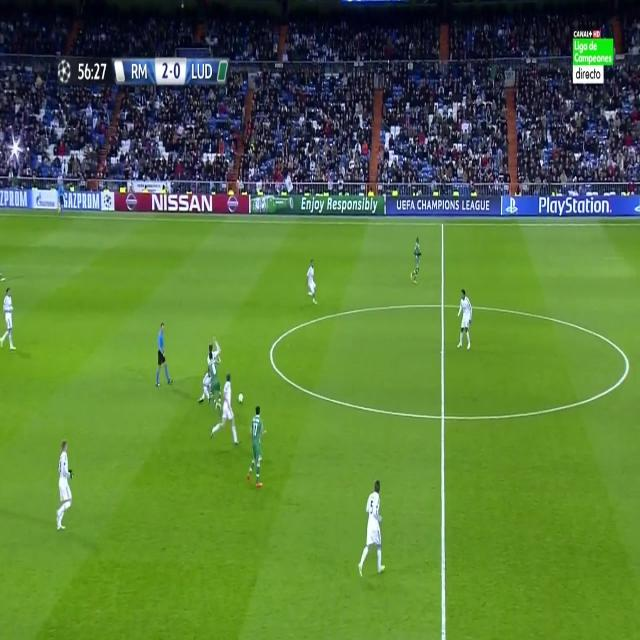Ball: (236, 389, 245, 406)
Player: (356, 474, 387, 580), (208, 373, 240, 450), (55, 438, 76, 536), (245, 406, 267, 493), (0, 284, 19, 357), (458, 288, 477, 350), (206, 355, 223, 408), (304, 258, 320, 308), (409, 236, 424, 289)
Referee: (153, 320, 173, 391), (57, 183, 68, 213)
